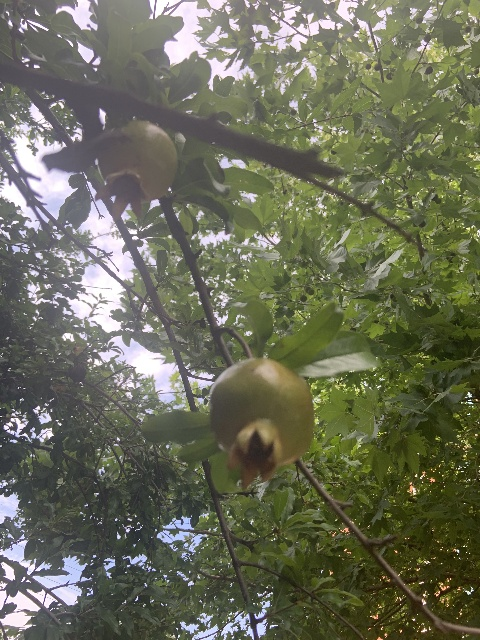mid-growth: (207, 357, 314, 489), (94, 120, 179, 222)
